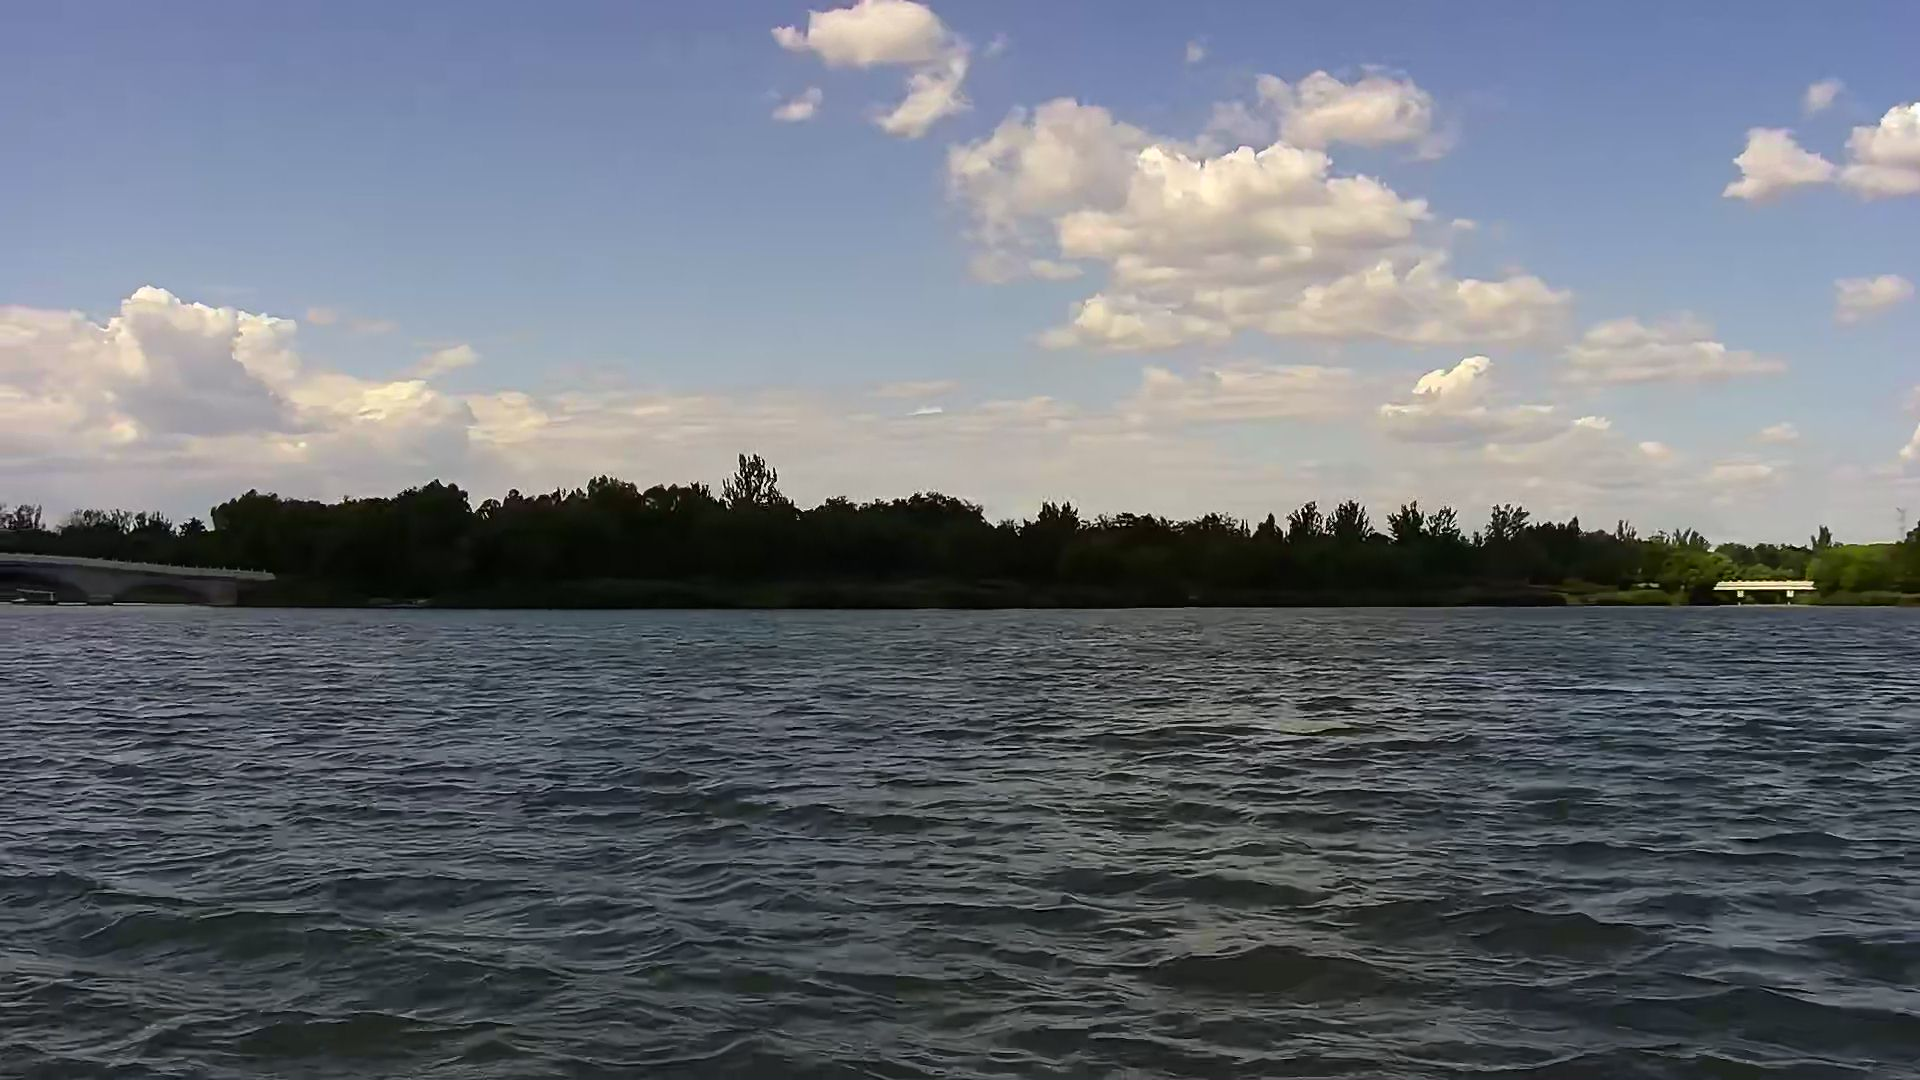bridge: (1, 550, 278, 611), (1714, 578, 1818, 607)
